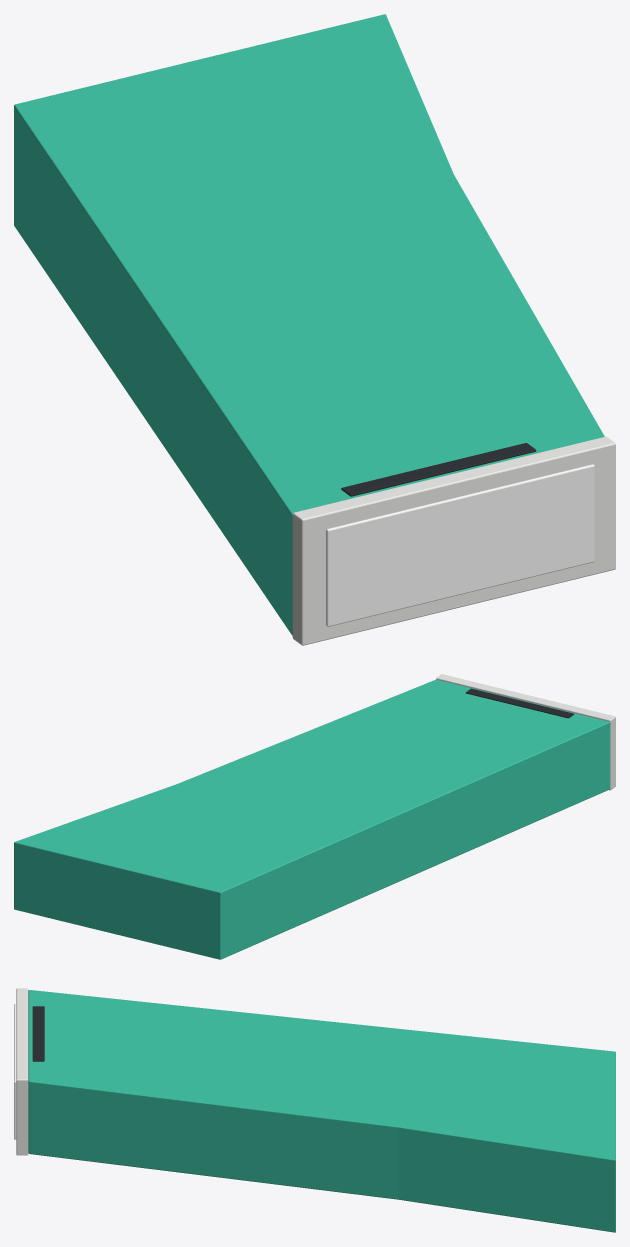
Rendered from dock_side_r.obj.
3 renders of one model, top to bottom at view 1: azimuth 30°, elevation 25°; view 2: azimuth 150°, elevation 25°; view 3: azimuth 270°, elevation 25°, orthographic. The views are drawn at different scales.
Visible parts, largest first — view 1: dock_side_r; view 2: dock_side_r; view 3: dock_side_r.
Boxes of the visible parts, <box> form: dock_side_r: <box>14,14,615,645</box>; dock_side_r: <box>14,674,615,959</box>; dock_side_r: <box>14,988,615,1232</box>.
Size of the model in its own units: 0.5017 by 0.104 by 0.748.
